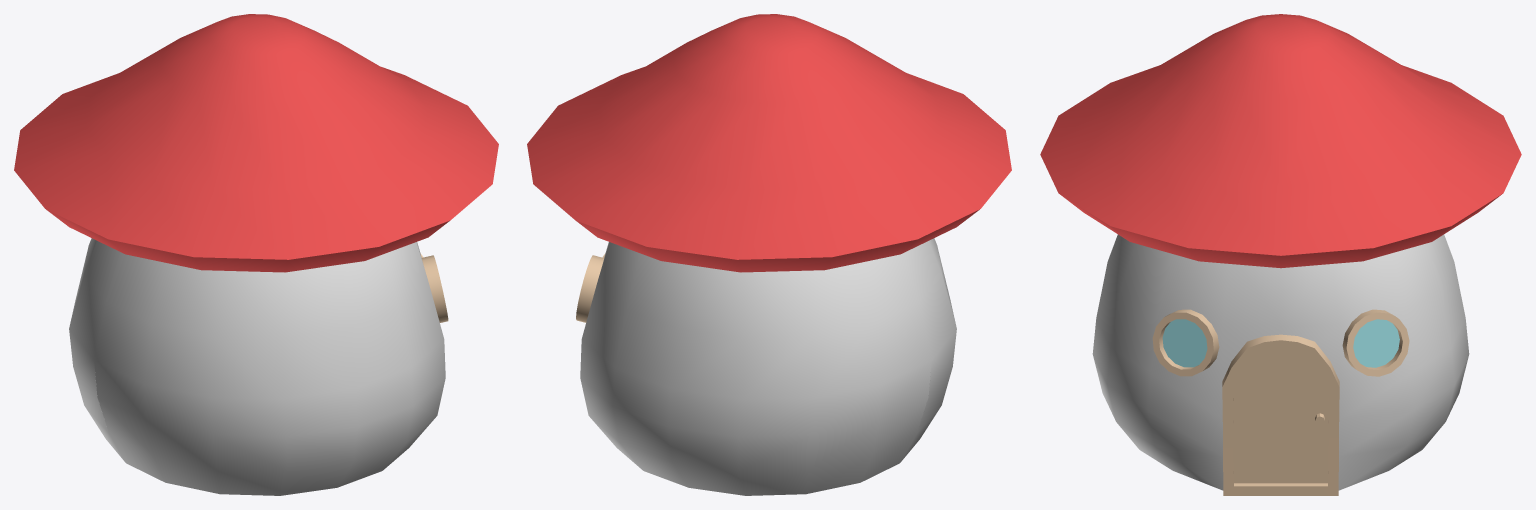
File: Mushroom_House_1.2(2).fbx
The picture shows the model from 3 angles, left to right: view 1: azimuth 30°, elevation 25°; view 2: azimuth 150°, elevation 25°; view 3: azimuth 270°, elevation 25°; orthographic projection.
Parts seen in each view (by area): view 1: Window; view 2: Window; view 3: Window.
Part boxes in pixels (box(x1,y1,x2,y2)): Window: box(14, 14, 498, 495); Window: box(527, 14, 1011, 495); Window: box(1040, 14, 1521, 495).
Bounding box in the file's own units: 1228 × 1120 × 1233.
